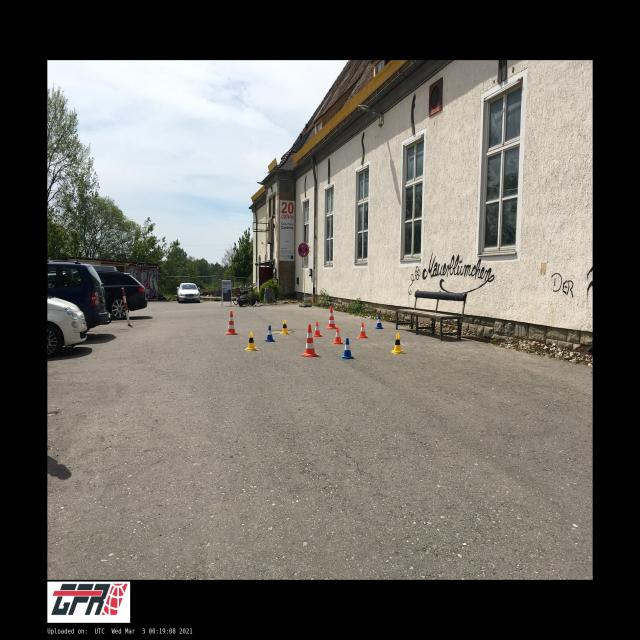blue_cone: (341, 338, 355, 359), (264, 325, 276, 342), (375, 315, 384, 329)
large_orange_cone: (301, 324, 319, 357), (225, 310, 238, 334), (326, 307, 337, 329)
orange_cone: (332, 327, 343, 344), (358, 322, 368, 339), (313, 321, 323, 337)
yellow_cone: (391, 333, 404, 354), (245, 332, 258, 351), (280, 319, 290, 335)
